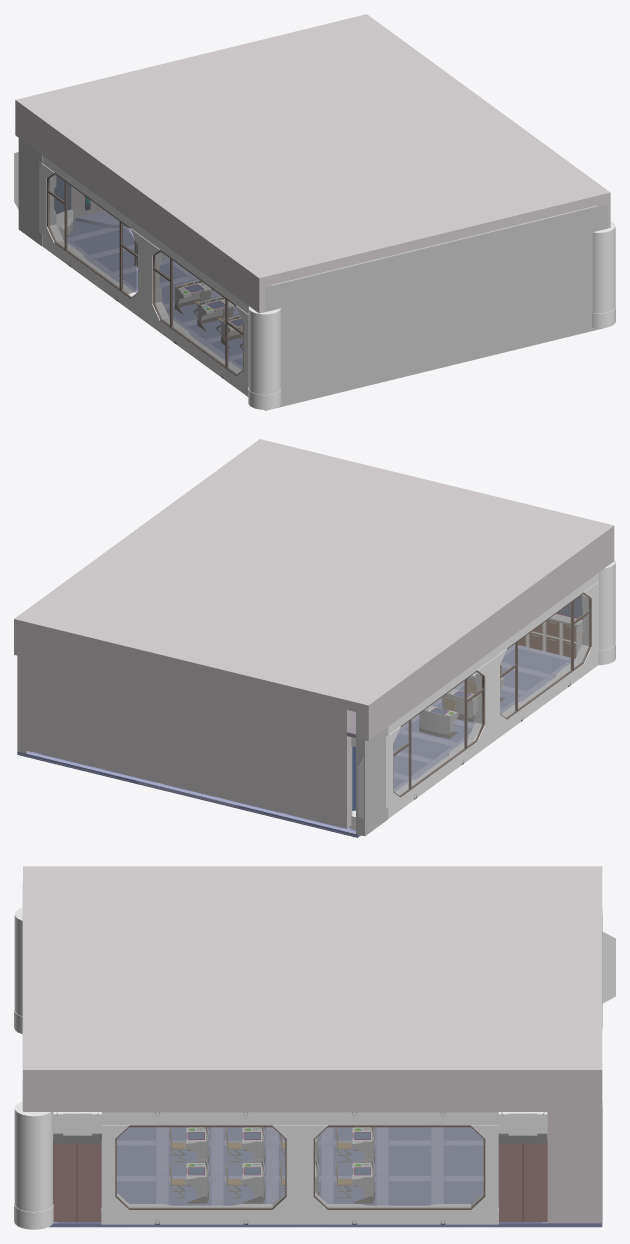
The model's file is updated_scene.glb.
The picture shows the model from 3 angles, top to bottom: view 1: azimuth 30°, elevation 25°; view 2: azimuth 150°, elevation 25°; view 3: azimuth 270°, elevation 25°; orthographic projection. The views are drawn at different scales.
Visible parts, largest first — view 1: pCube82, pCube80, pCube66, pCube67, pCylinder6, pCube36, pCylinder4, pCube56, pCube39_paredText_0.002, pCube39_paredText_0.001, plane, pCube50 (+7 smaller); view 2: pCube82, pCube2, pCube66, pCube67, pCube56, pCube36, plane, pCube39_paredText_0.001, pCube39_paredText_0.002, pCylinder6, polySurface15, pCube50 (+11 smaller); view 3: pCube82, pCube70_mia_material_x1_0.001, pCube70, pCube50, plane, pCube45, pCylinder4, pCube36, pCube78, pCube81, pCube39_paredText_0.003, pCube39 (+13 smaller).
Boxes of the visible parts, x1=… form: pCube82: x1=15, y1=14, x2=610, y2=313; pCube80: x1=264, y1=204, x2=607, y2=410; pCube66: x1=14, y1=152, x2=136, y2=294; pCube67: x1=154, y1=251, x2=242, y2=374; pCylinder6: x1=248, y1=306, x2=281, y2=409; pCube36: x1=63, y1=218, x2=169, y2=274; pCylinder4: x1=592, y1=221, x2=615, y2=328; pCube56: x1=18, y1=138, x2=42, y2=246; pCube39_paredText_0.002: x1=42, y1=235, x2=145, y2=321; pCube39_paredText_0.001: x1=145, y1=310, x2=248, y2=396; plane: x1=109, y1=261, x2=237, y2=325; pCube50: x1=181, y1=312, x2=242, y2=370; pCube82: x1=14, y1=439, x2=614, y2=741; pCube2: x1=17, y1=628, x2=352, y2=828; pCube66: x1=358, y1=675, x2=481, y2=818; pCube67: x1=500, y1=594, x2=589, y2=718; pCube56: x1=356, y1=727, x2=388, y2=836; pCube36: x1=17, y1=751, x2=412, y2=837; plane: x1=394, y1=714, x2=473, y2=779; pCube39_paredText_0.001: x1=492, y1=654, x2=598, y2=742; pCube39_paredText_0.002: x1=388, y1=731, x2=491, y2=818; pCylinder6: x1=583, y1=560, x2=615, y2=665; polySurface15: x1=518, y1=620, x2=582, y2=658; pCube50: x1=431, y1=665, x2=553, y2=725; pCube82: x1=23, y1=866, x2=602, y2=1112; pCube70_mia_material_x1_0.001: x1=116, y1=1127, x2=285, y2=1208; pCube70: x1=315, y1=1127, x2=483, y2=1208; pCube50: x1=107, y1=1127, x2=272, y2=1227; plane: x1=272, y1=1127, x2=437, y2=1227; pCube45: x1=547, y1=1101, x2=602, y2=1223; pCylinder4: x1=14, y1=1101, x2=53, y2=1229; pCube36: x1=437, y1=1112, x2=602, y2=1227; pCube78: x1=498, y1=1139, x2=547, y2=1222; pCube81: x1=53, y1=1141, x2=101, y2=1222; pCube39_paredText_0.003: x1=101, y1=1204, x2=300, y2=1224; pCube39: x1=300, y1=1204, x2=498, y2=1224.
Bounding box in the file's own units: 26.61 × 9.37 × 32.11.
Materials: 19 (9 with a texture image).
